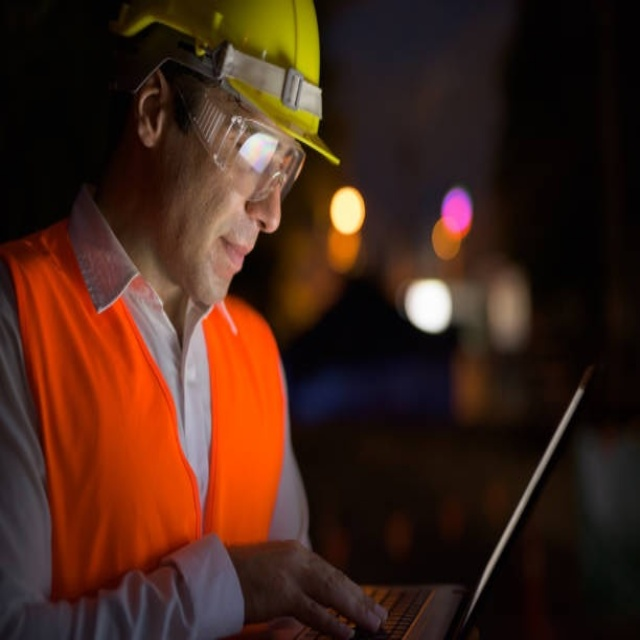Gafas: (170, 75, 308, 209)
Sin_guantes: (229, 538, 386, 640)
Sin_mascara: (190, 224, 260, 303)
